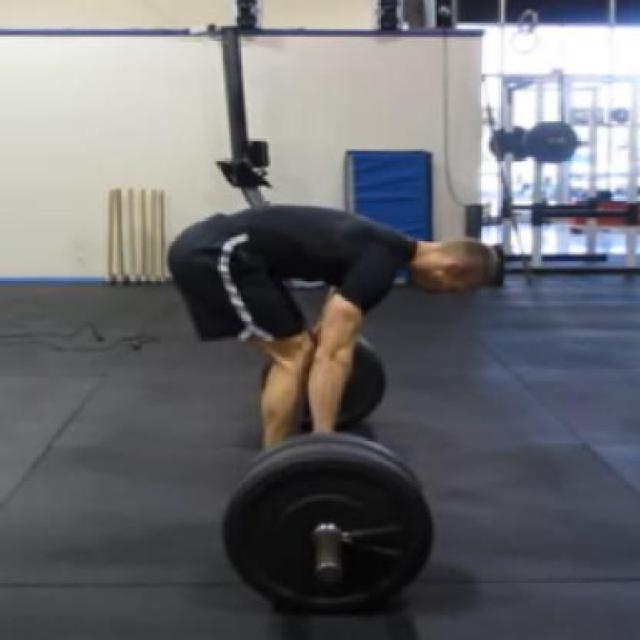barbell: (202, 431, 454, 620)
